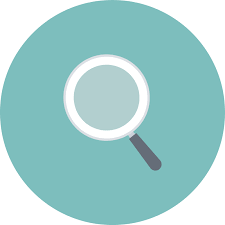searchIcon: (60, 51, 163, 171)
